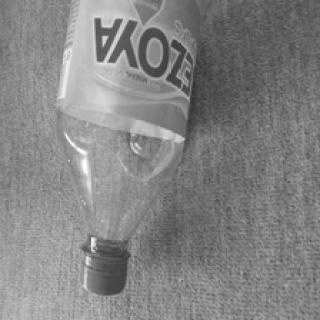plastic_bottles: (47, 2, 213, 306)
